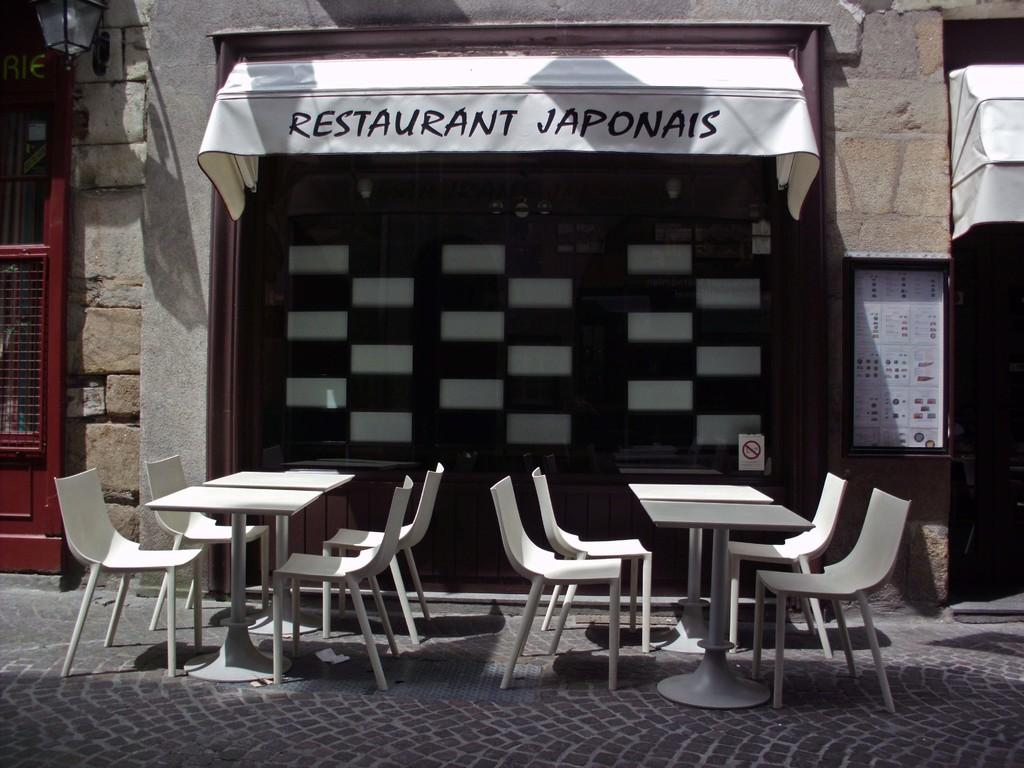Chair: (752, 487, 912, 714), (53, 466, 205, 678), (271, 474, 414, 691), (489, 473, 622, 691), (143, 454, 270, 633), (531, 467, 653, 653), (322, 461, 444, 646), (727, 471, 849, 653)
Computer-monitor: (840, 253, 953, 458)
